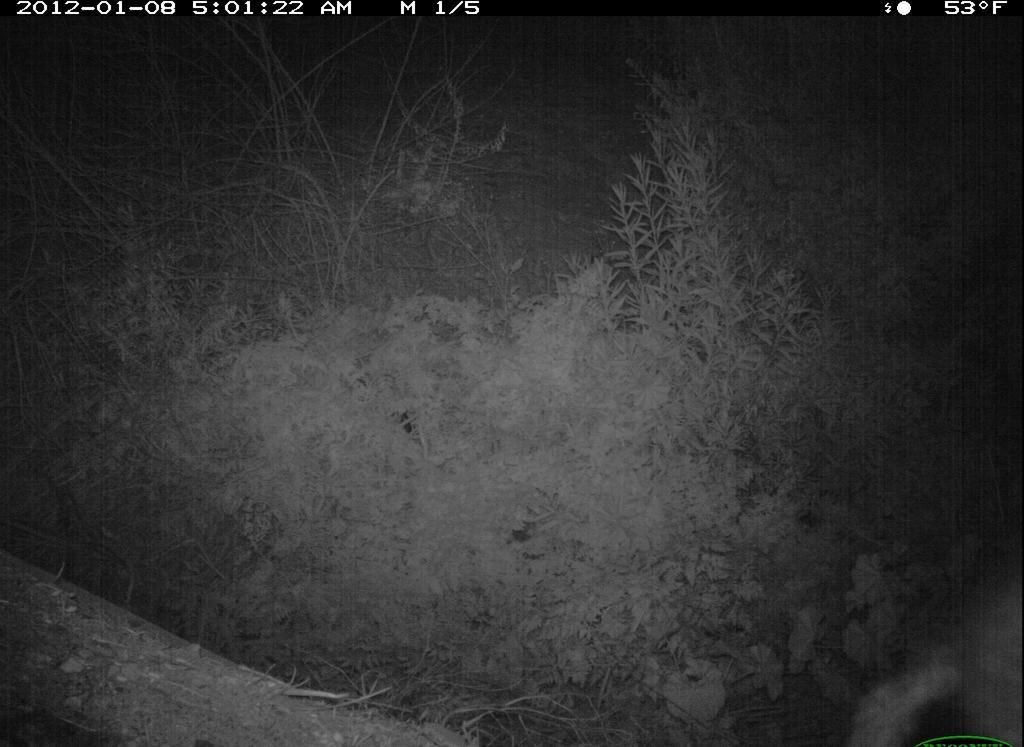raccoon: (836, 548, 1022, 747)
